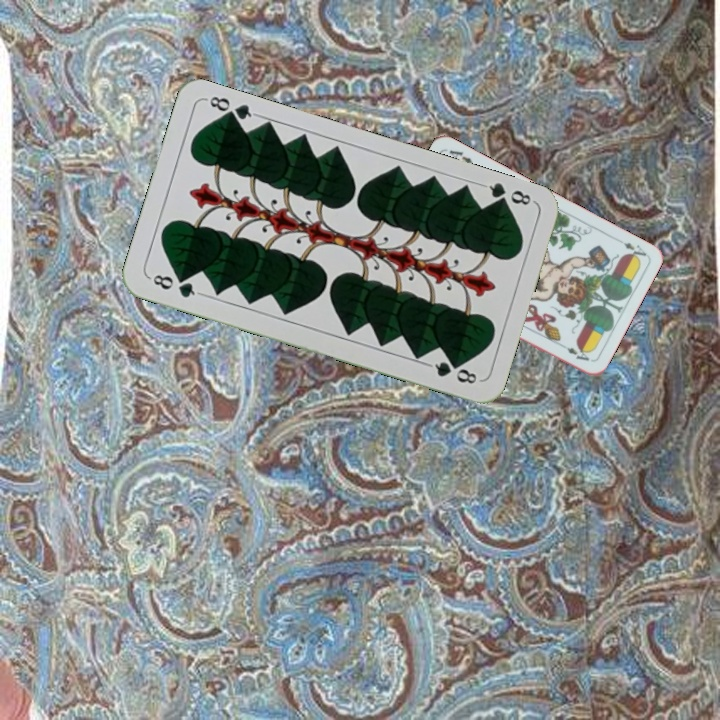EA: (619, 238, 649, 263)
G8: (478, 178, 534, 211), (145, 270, 203, 301)
